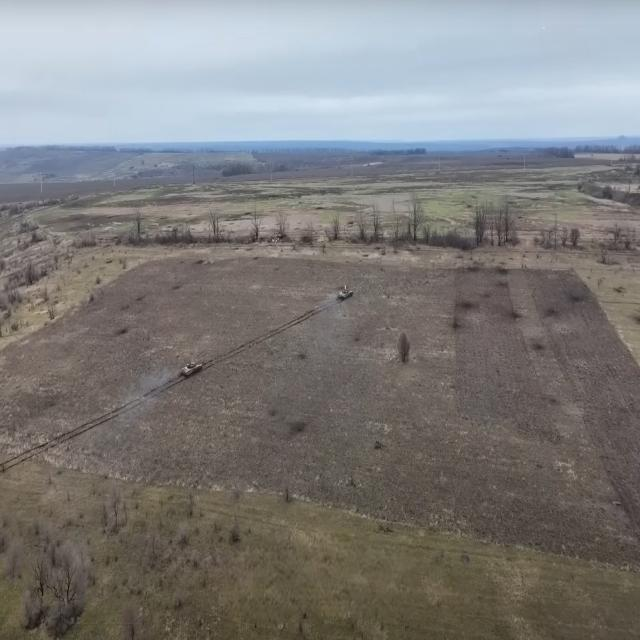MBT: (180, 355, 206, 383), (339, 284, 354, 303)
